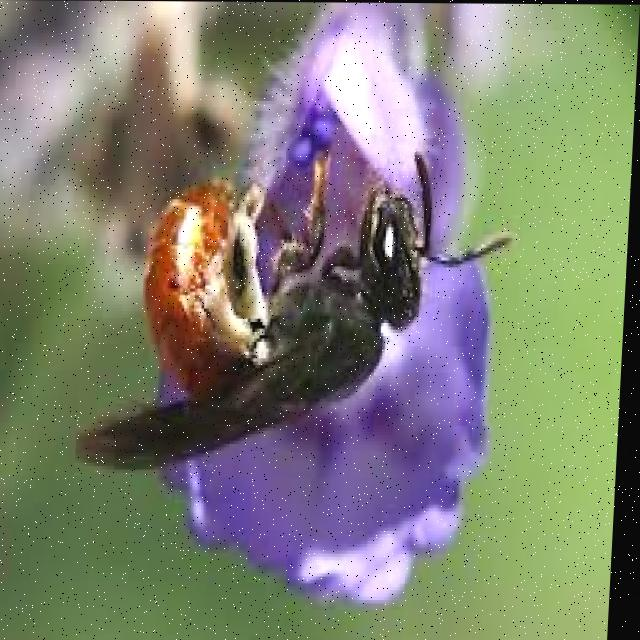Lasioglossum: (75, 126, 487, 513)
